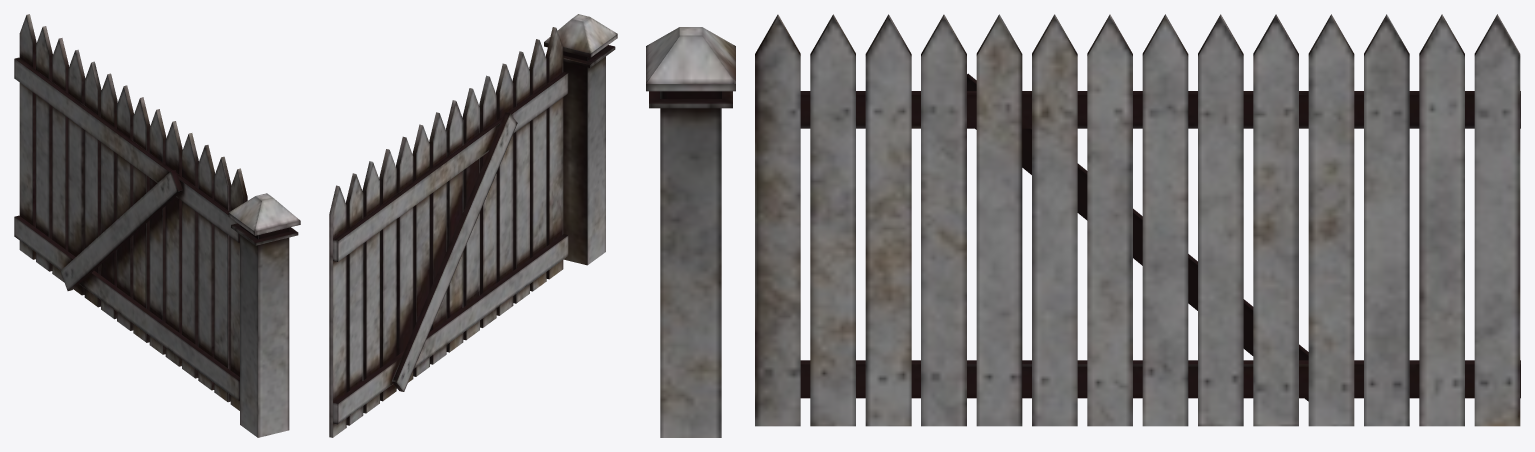
Rendered from v_picket.glb.
The picture shows the model from 3 angles, left to right: view 1: azimuth 30°, elevation 25°; view 2: azimuth 150°, elevation 25°; view 3: azimuth 270°, elevation 25°; orthographic projection. The views are drawn at different scales.
Parts seen in each view (by area): view 1: body|default; view 2: body|default; view 3: body|default.
Part boxes in pixels (x1,y1,x2,y2): body|default: (14,14,300,437); body|default: (329,14,617,437); body|default: (646,14,1520,437).
Size of the model in its own units: 0.3066 by 1.54 by 2.99.
1 material, 1 textured.
